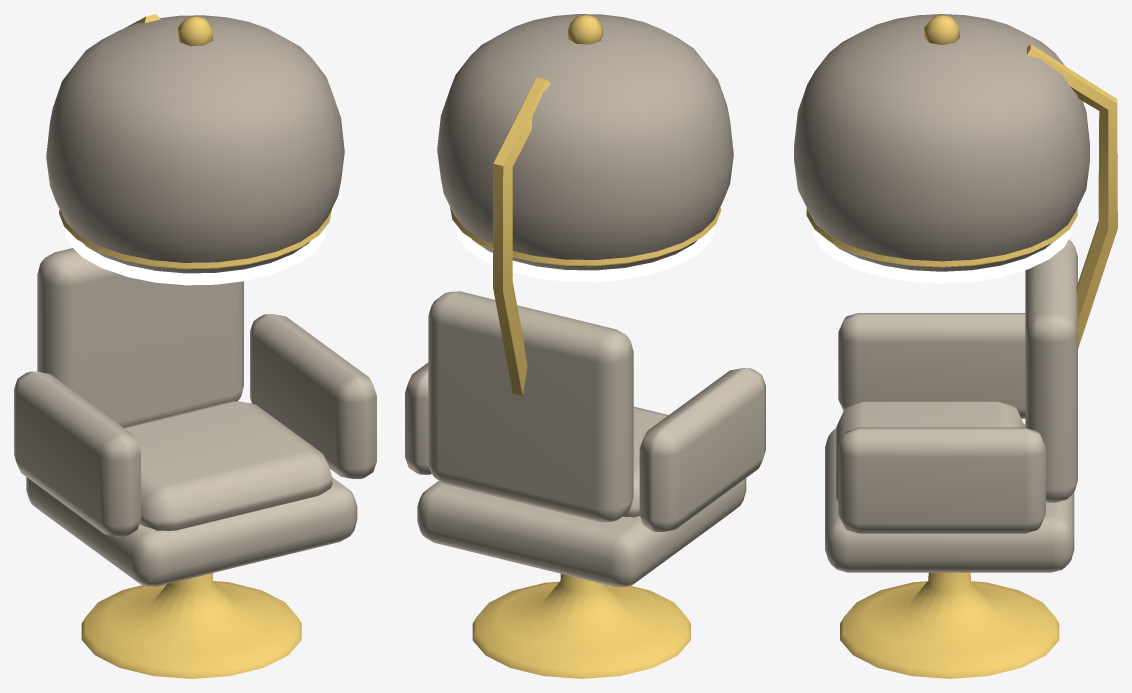
Rendered from dryer_hood_chair.glb.
3 renders of one model, left to right at view 1: azimuth 30°, elevation 25°; view 2: azimuth 150°, elevation 25°; view 3: azimuth 270°, elevation 25°, orthographic.
Parts seen in each view (by area): view 1: dryer_hood_chair; view 2: dryer_hood_chair; view 3: dryer_hood_chair.
Part boxes in pixels (x1,y1,x2,y2): dryer_hood_chair: (14, 14, 376, 678); dryer_hood_chair: (405, 14, 765, 678); dryer_hood_chair: (794, 14, 1117, 678).
Size of the model in its own units: 0.84 by 1.81 by 0.8578.
